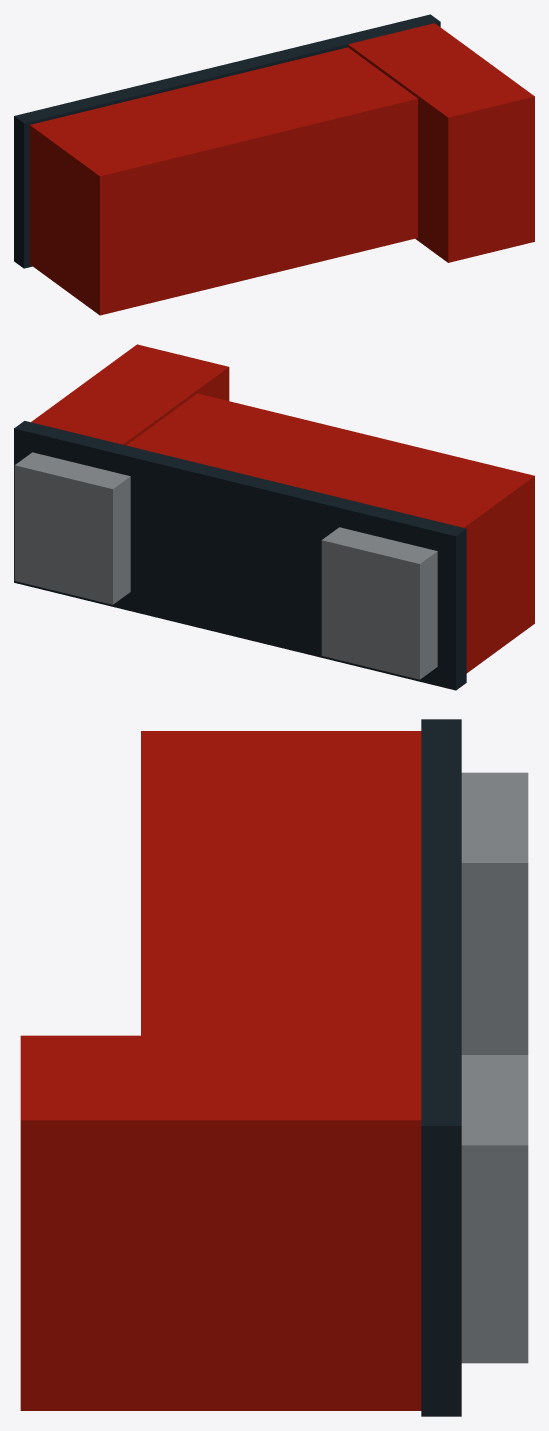
Rendered from loco.glb.
The picture shows the model from 3 angles, top to bottom: view 1: azimuth 30°, elevation 25°; view 2: azimuth 150°, elevation 25°; view 3: azimuth 270°, elevation 25°; orthographic projection. The views are drawn at different scales.
Visible parts, largest first — view 1: fixture-loco; view 2: fixture-loco; view 3: fixture-loco.
Part boxes in pixels (x1,y1,x2,y2): fixture-loco: (14, 14, 534, 315); fixture-loco: (14, 344, 534, 690); fixture-loco: (20, 719, 528, 1416).
Size of the model in its own units: 144 by 48 by 76.
